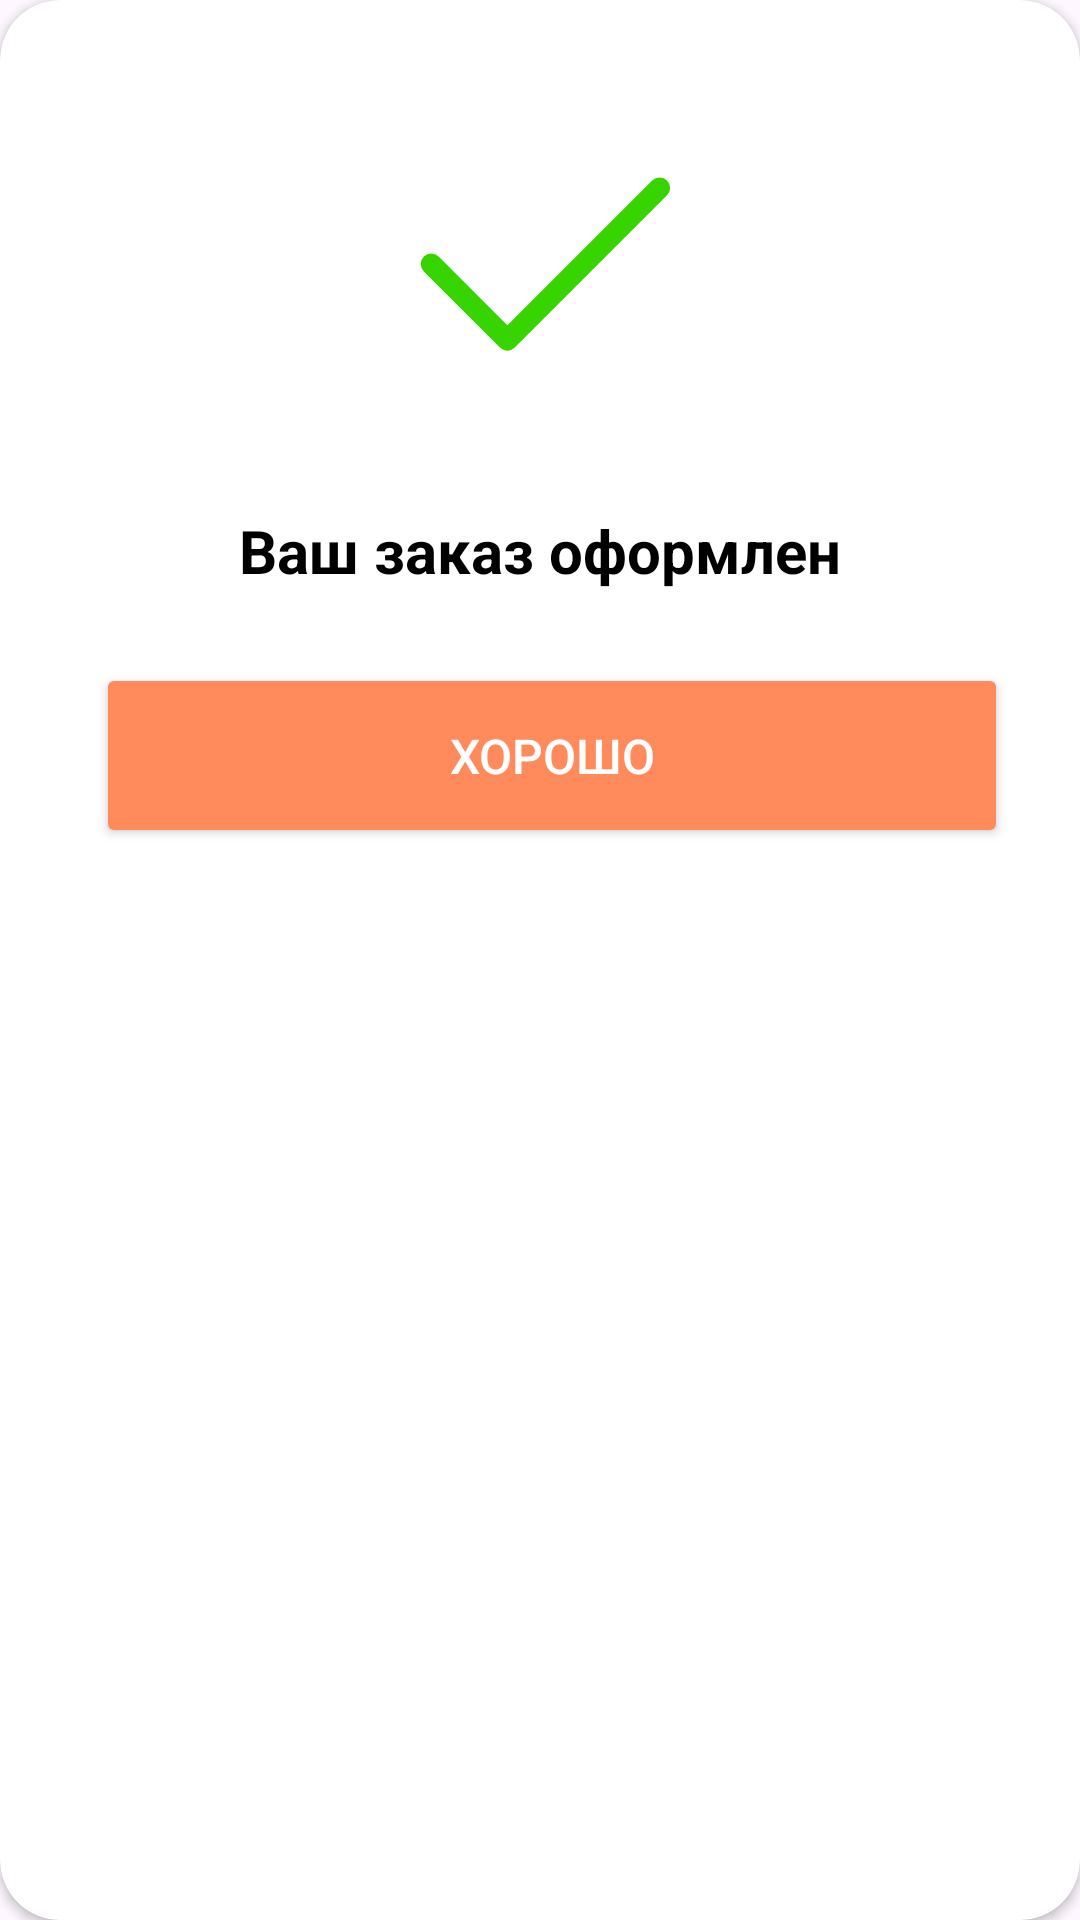

Named icons in this screenshot (1080x1920) and their centers, (x=x, y=y):
check: (x=545, y=264)
